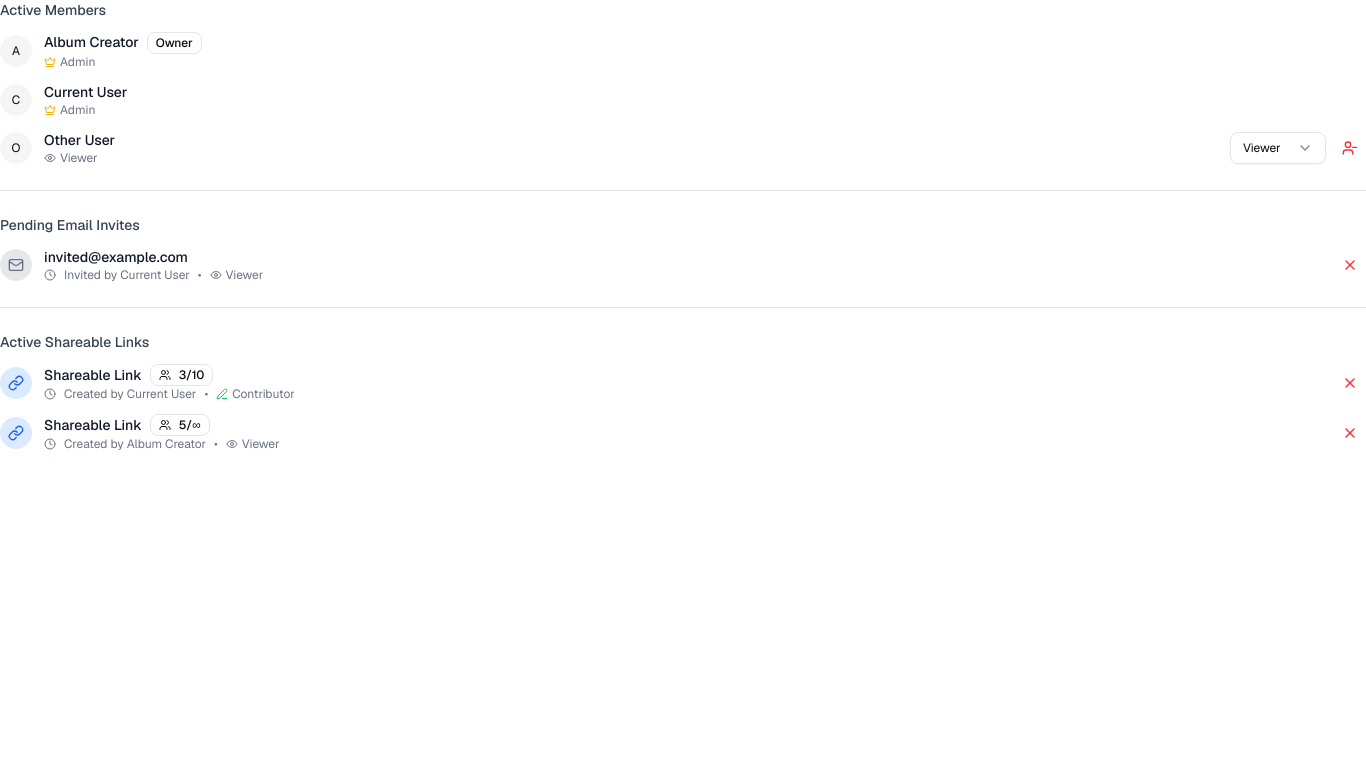
Test case: MemberManagement › Remove Member › shows confirmation dialog when removing member
# Click remove button
Click the button without text in the row of "Other User": (1350, 148) x1=1334 y1=132 x2=1365 y2=164
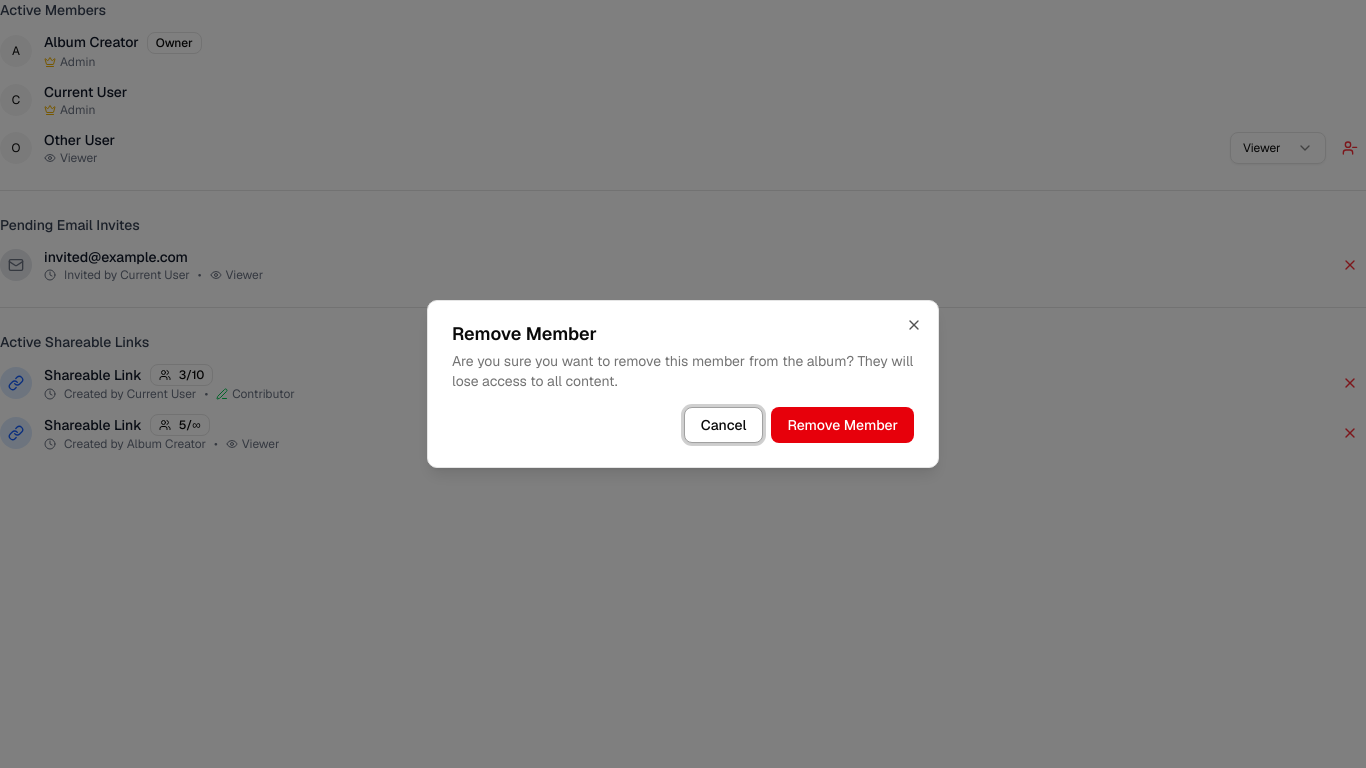
Expected: the text "Are you sure you want to remove this member" is shown, x1=452 y1=352 x2=913 y2=390
